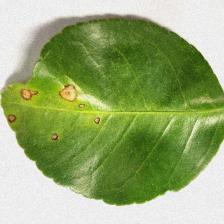canker: (2, 68, 106, 148)
